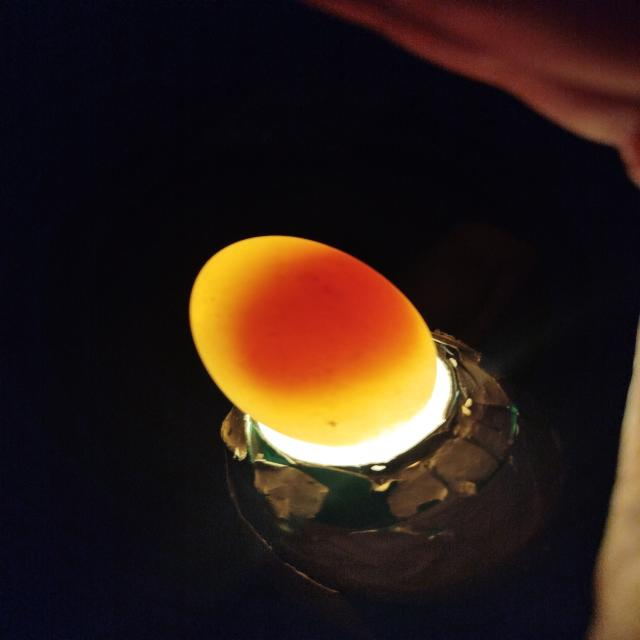Gema Quebrada: (232, 249, 411, 394)
